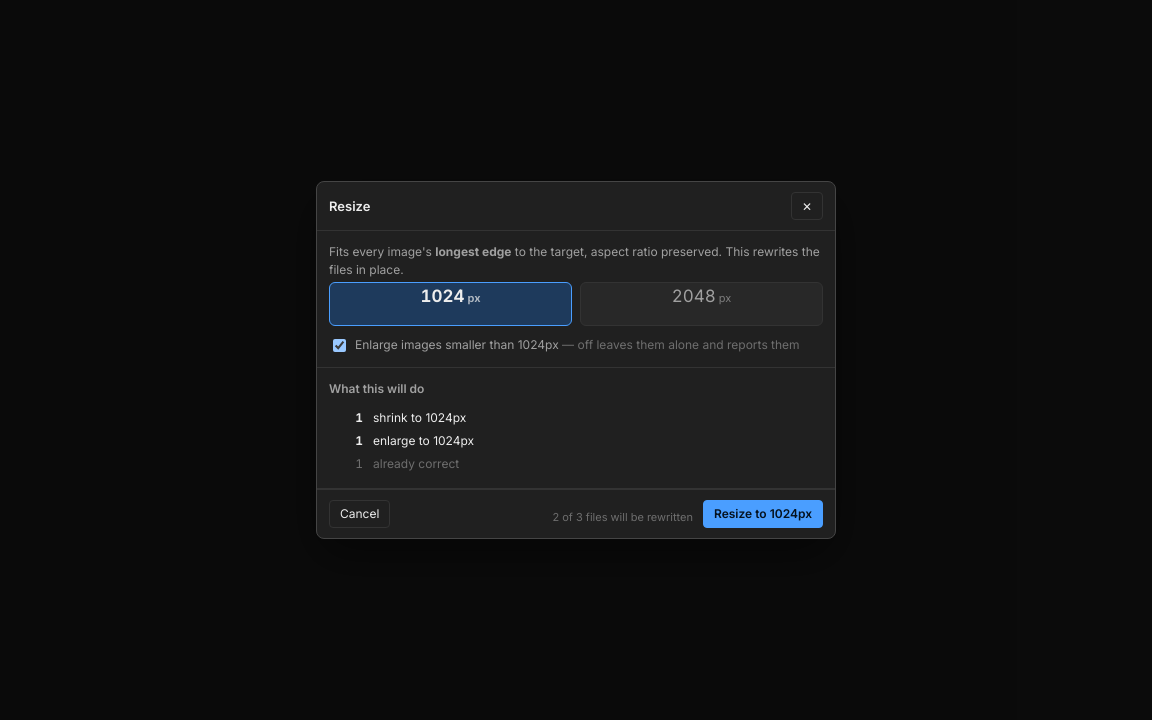
Scenario: the resize dialog › recounts when the size changes
Click the radio button labelled "2048 px" at (702, 304), box x1=580 y1=282 x2=823 y2=326
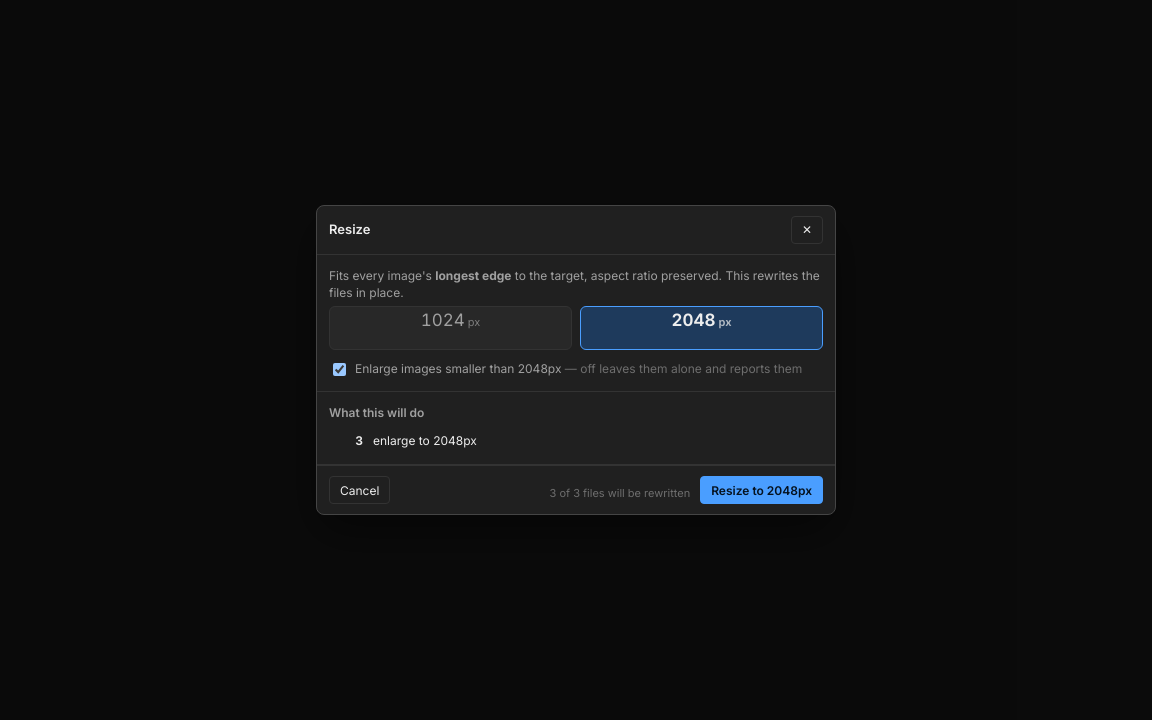
Expected: the text "enlarge to 2048px" is shown, x1=373 y1=432 x2=477 y2=449
